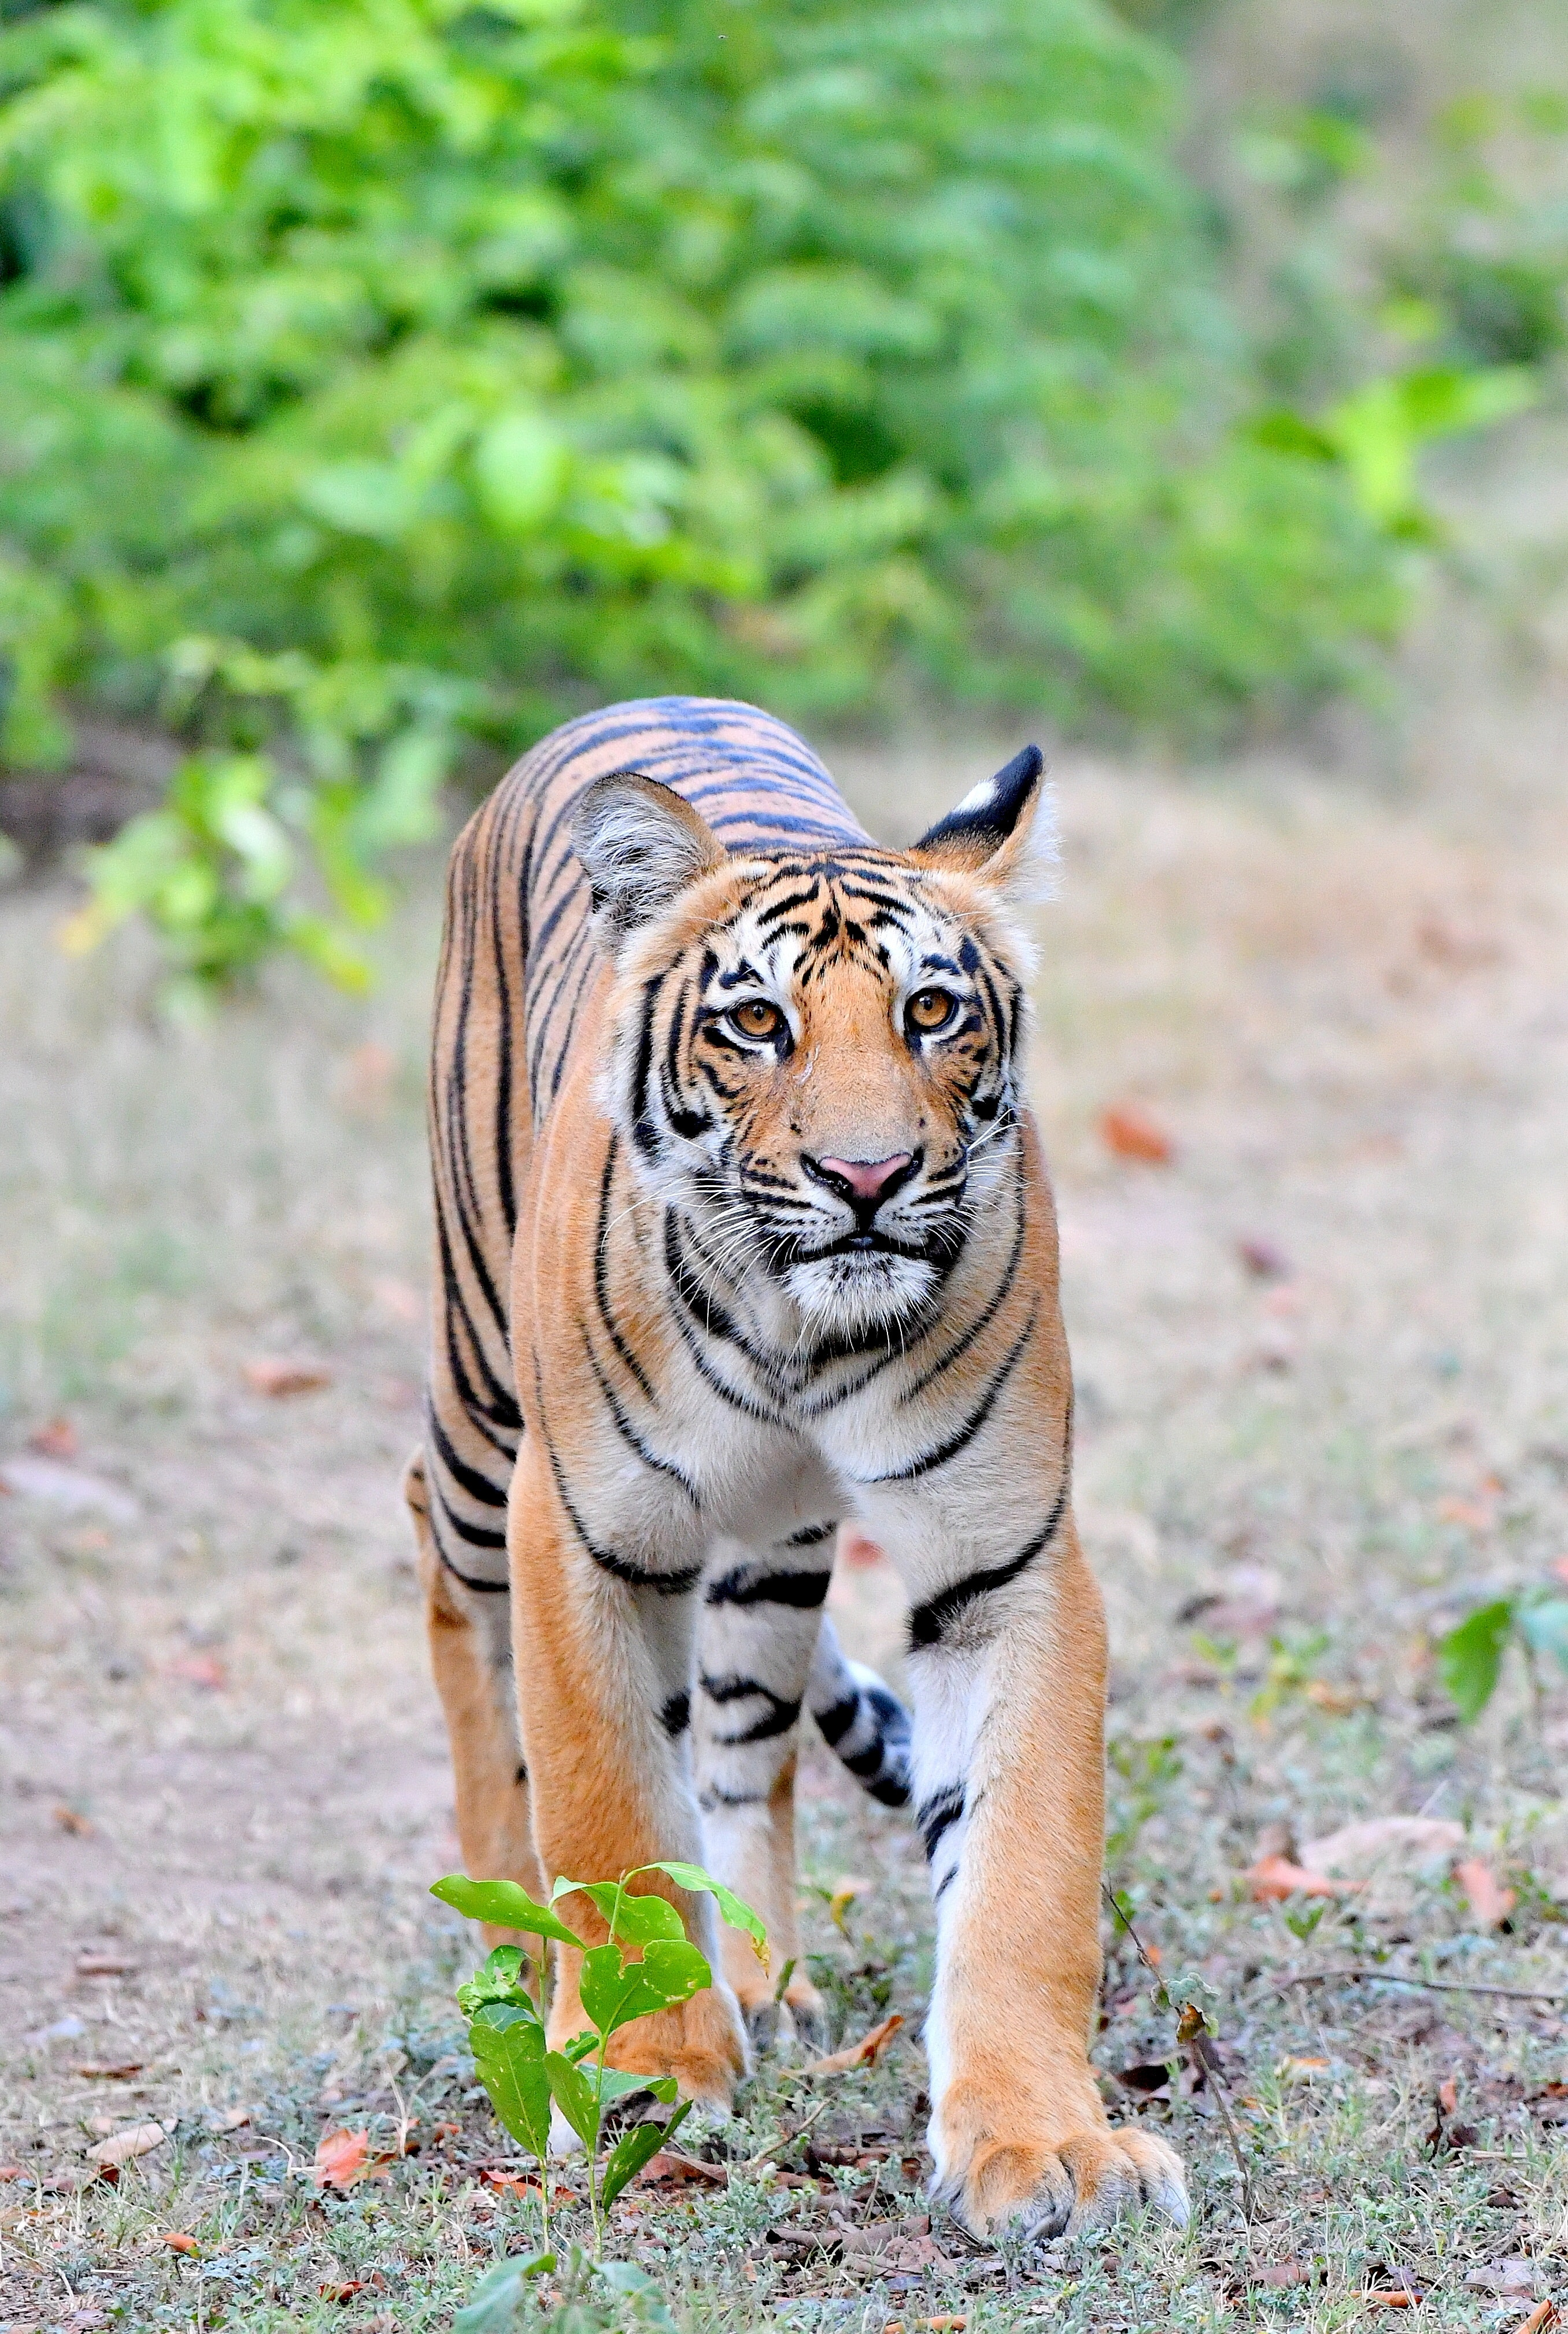tiger: (333, 600, 1309, 2266)
